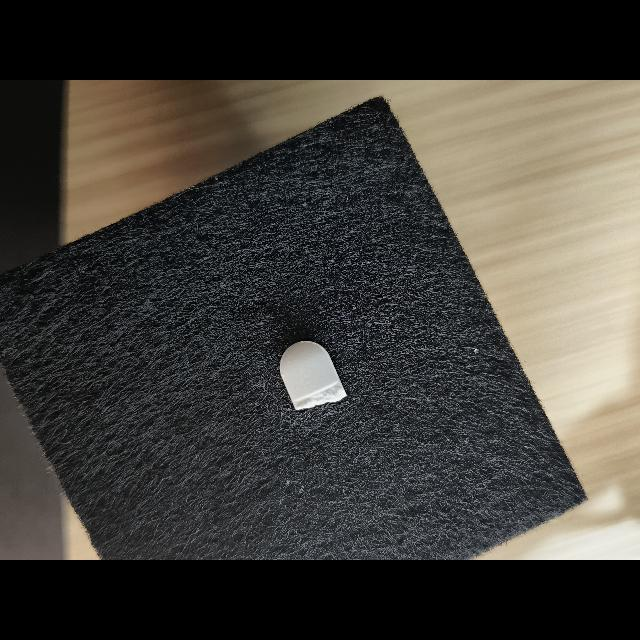Chipped Pill: (280, 341, 347, 410)
